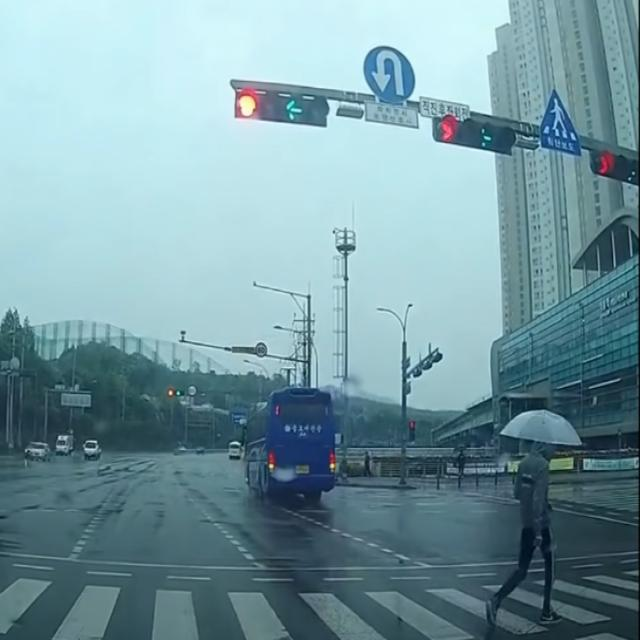Red Light: (234, 86, 260, 118), (434, 113, 459, 143), (593, 146, 614, 174)
